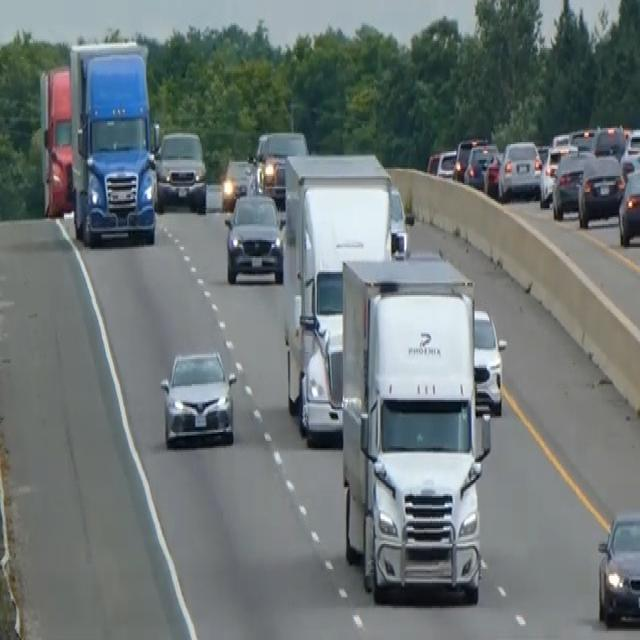car: (159, 347, 236, 448), (223, 190, 283, 284), (596, 507, 639, 628), (154, 128, 207, 213), (253, 128, 308, 201), (472, 306, 506, 416), (577, 151, 625, 228), (551, 146, 594, 218), (497, 137, 542, 201), (221, 156, 257, 210), (538, 142, 568, 206), (617, 167, 639, 247), (463, 140, 498, 190), (452, 135, 485, 181), (388, 183, 408, 254), (592, 123, 626, 160), (482, 150, 503, 196), (426, 148, 456, 178)
lorry: (339, 250, 492, 604), (67, 37, 159, 247)
